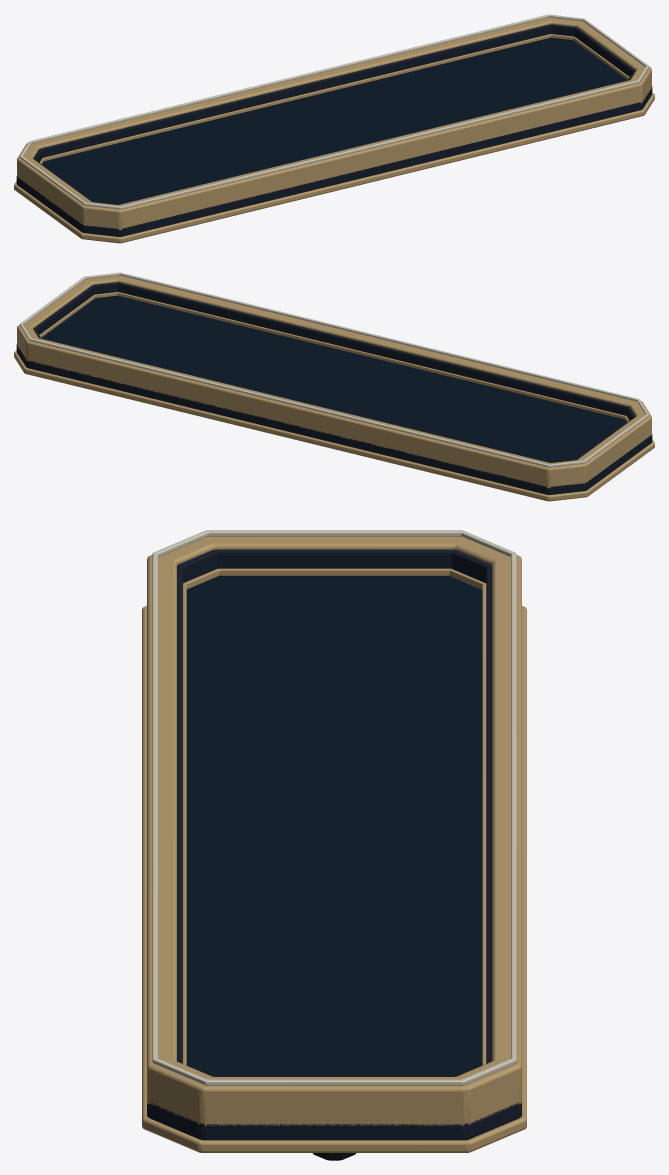
File: mana-tray.glb
3 views of the same model, one above another, from view 1: azimuth 30°, elevation 25°; view 2: azimuth 150°, elevation 25°; view 3: azimuth 270°, elevation 25° (orthographic). The views are drawn at different scales.
Parts seen in each view (by area): view 1: MANA_TRAY_SURFACES; view 2: MANA_TRAY_SURFACES; view 3: MANA_TRAY_SURFACES.
Boxes of the visible parts, <box> form: MANA_TRAY_SURFACES: <box>14,14,654,243</box>; MANA_TRAY_SURFACES: <box>14,272,654,501</box>; MANA_TRAY_SURFACES: <box>142,530,526,1160</box>.
Bounding box in the file's own units: 0.265 × 0.023 × 0.077.
